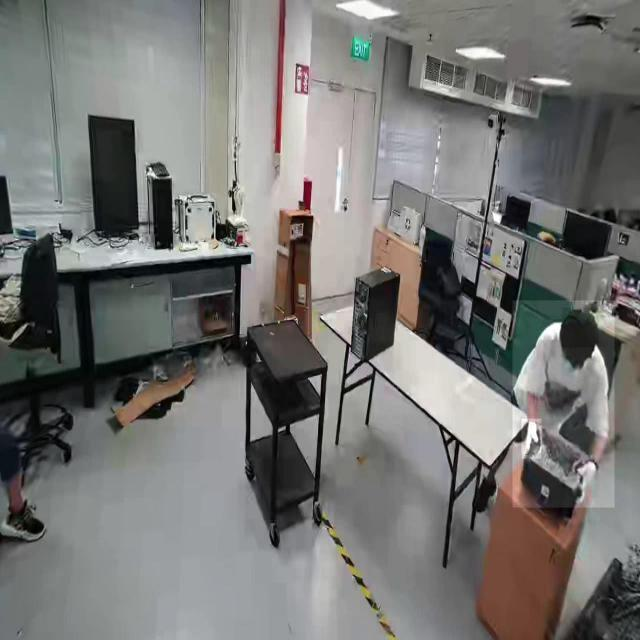gloves: (576, 453, 600, 503), (522, 418, 542, 459)
